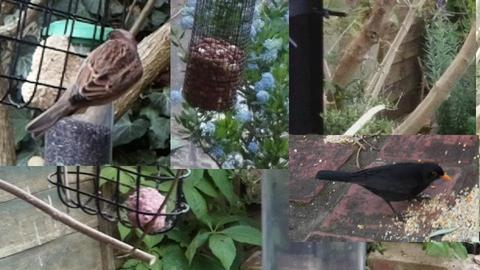blackbird: (314, 160, 454, 224)
sparrow: (25, 25, 146, 141)
